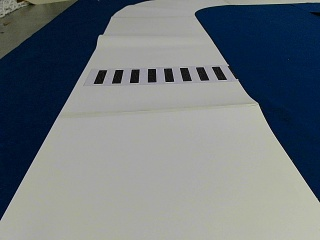crosswalk: (93, 65, 224, 84)
